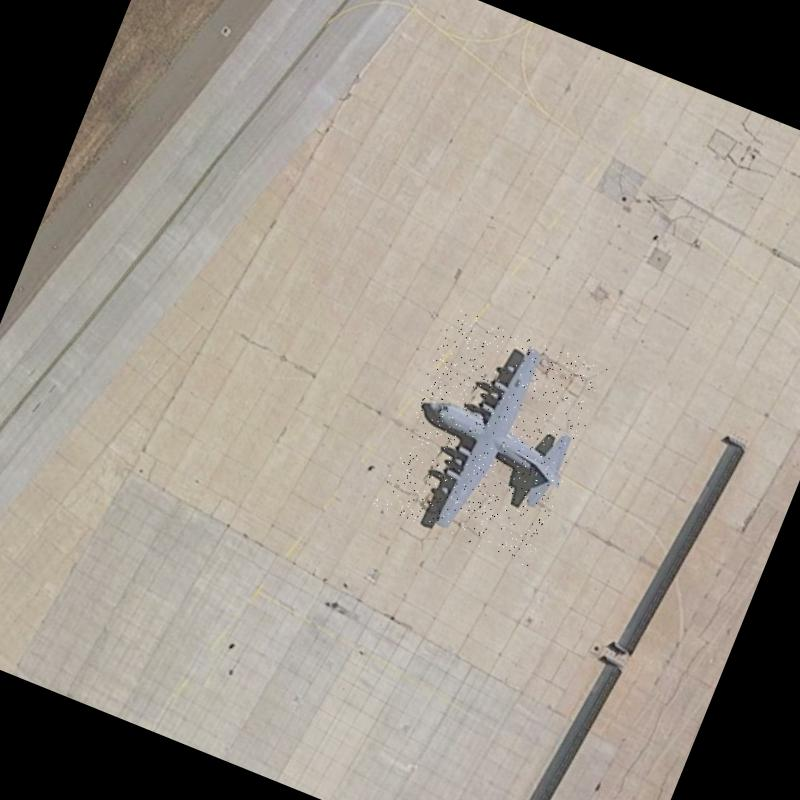A2: (373, 305, 608, 567)
